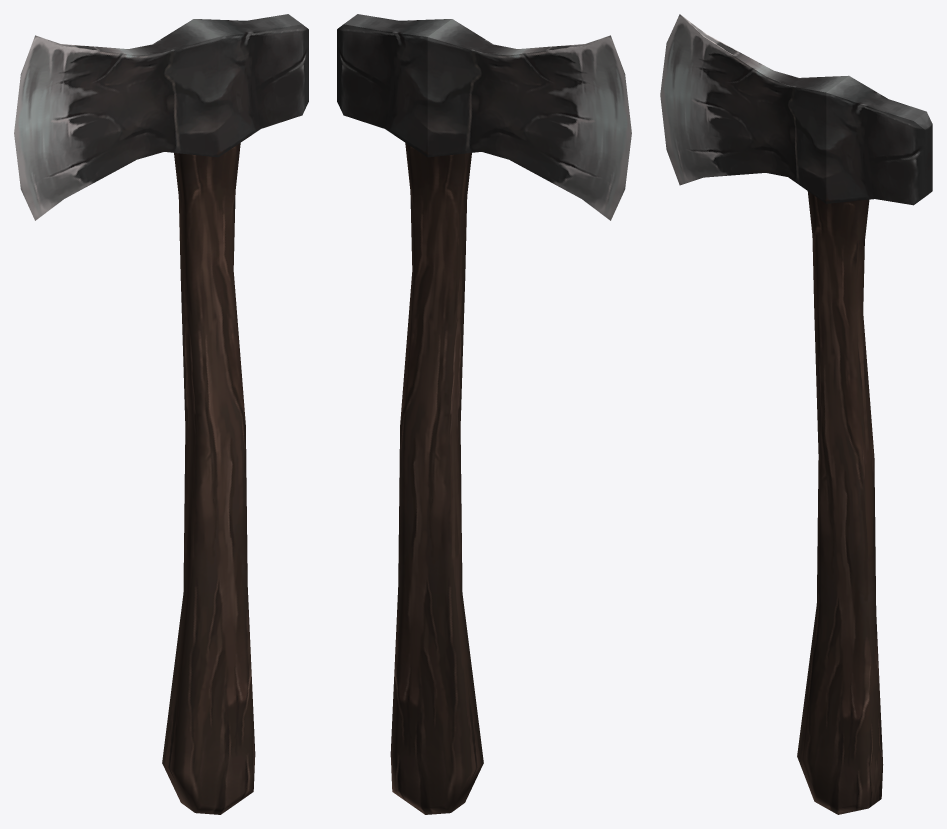
Rendered from 89_weapon.FBX.
The picture shows the model from 3 angles, left to right: view 1: azimuth 30°, elevation 25°; view 2: azimuth 150°, elevation 25°; view 3: azimuth 330°, elevation 25°; orthographic projection. The views are drawn at different scales.
Parts seen in each view (by area): view 1: 89_weapon; view 2: 89_weapon; view 3: 89_weapon.
Part boxes in pixels (bbox=[...]): 89_weapon: bbox=[14, 14, 308, 814]; 89_weapon: bbox=[337, 14, 631, 814]; 89_weapon: bbox=[660, 14, 932, 814].
Size of the model in its own units: 749 by 2014 by 110.
